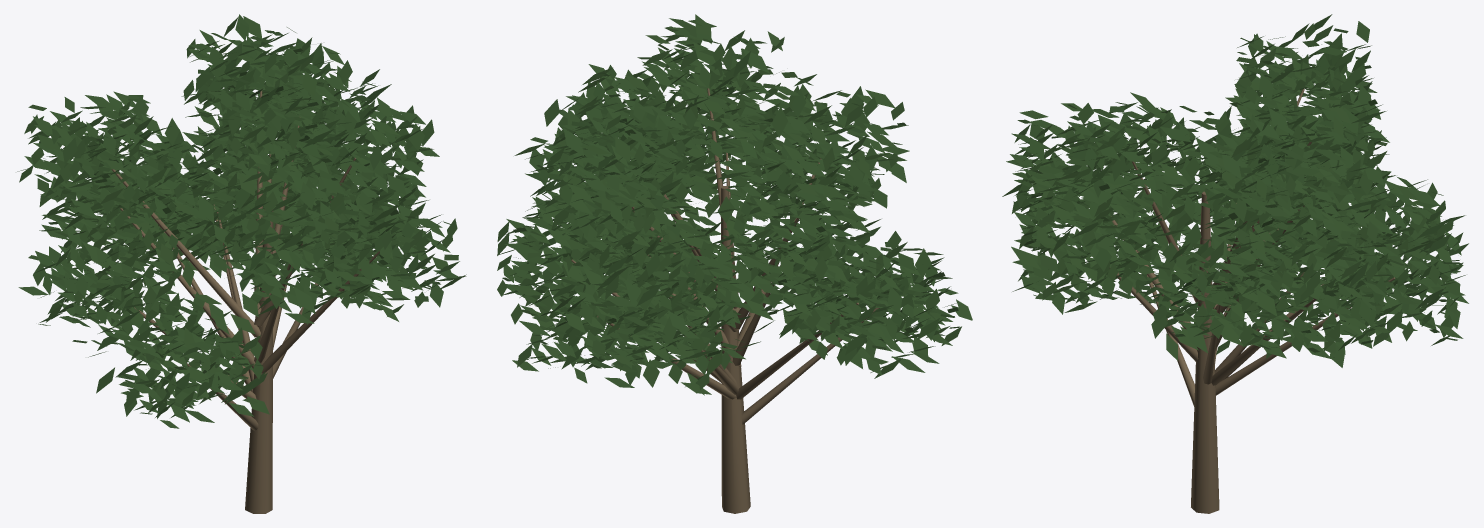
Rendered from broadleaf.glb.
3 views of the same model, side by side, from view 1: azimuth 30°, elevation 25°; view 2: azimuth 150°, elevation 25°; view 3: azimuth 270°, elevation 25° (orthographic). The views are drawn at different scales.
Visible parts, largest first — view 1: broadleaf, bark; view 2: broadleaf, bark; view 3: broadleaf, bark.
Part boxes in pixels (<box>): broadleaf: <box>17,14,466,428</box>; bark: <box>111,90,379,513</box>; broadleaf: <box>497,14,972,395</box>; bark: <box>571,88,879,513</box>; broadleaf: <box>1002,14,1468,367</box>; bark: <box>1109,89,1395,513</box>.
Bounding box in the file's own units: 9.79 × 11 × 10.63.
